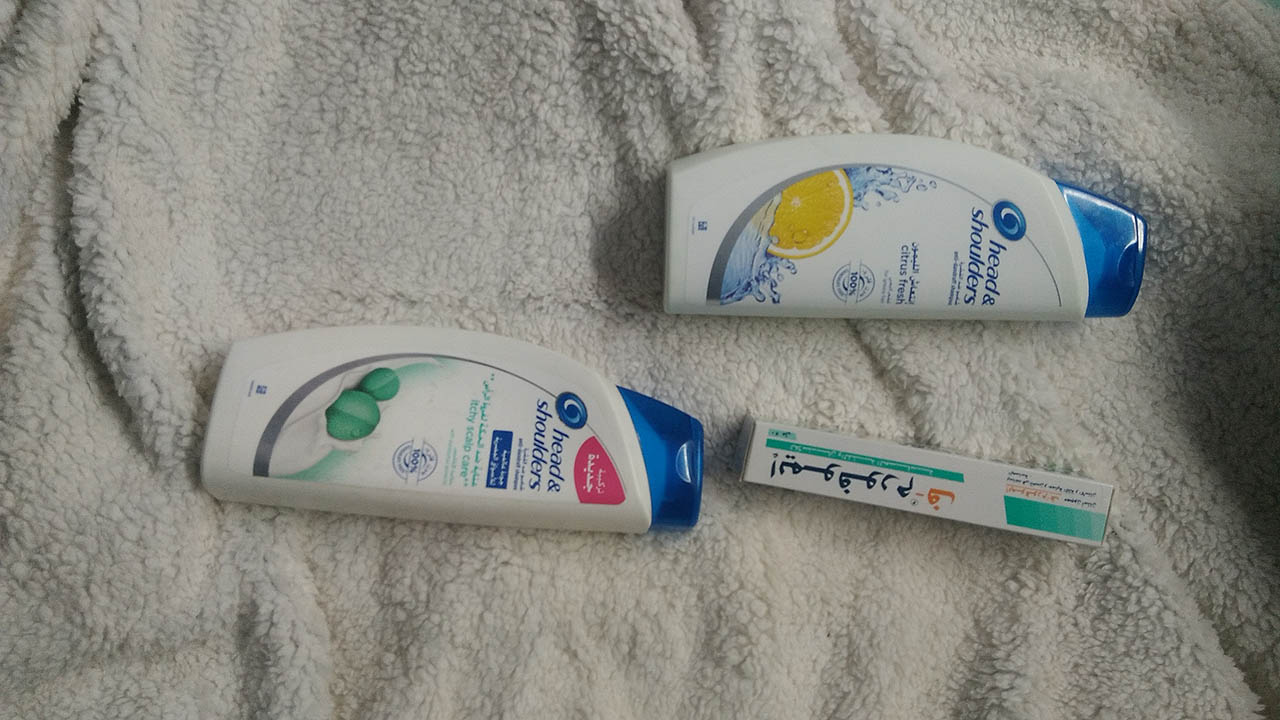Toothpaste-F 1.5$: (740, 411, 1128, 560)
shampoo-Lemon 3.5$: (661, 147, 1156, 323)
shampoo-green 4.5$: (212, 327, 710, 551)
